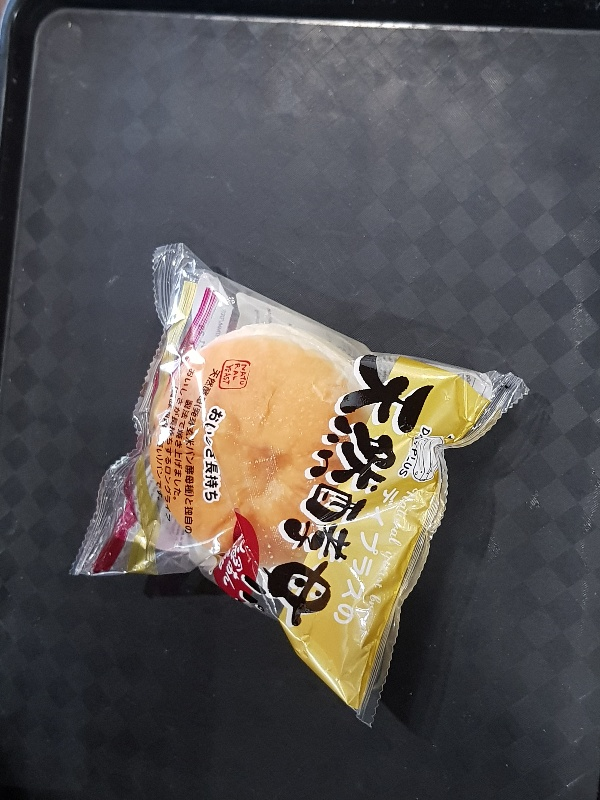Dayplus Red Bean: (68, 243, 527, 726)
